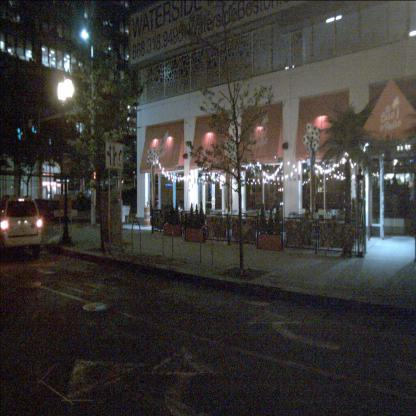barrier: (258, 234, 283, 250), (185, 228, 204, 243), (165, 224, 182, 238)
cone: (144, 206, 150, 227)
